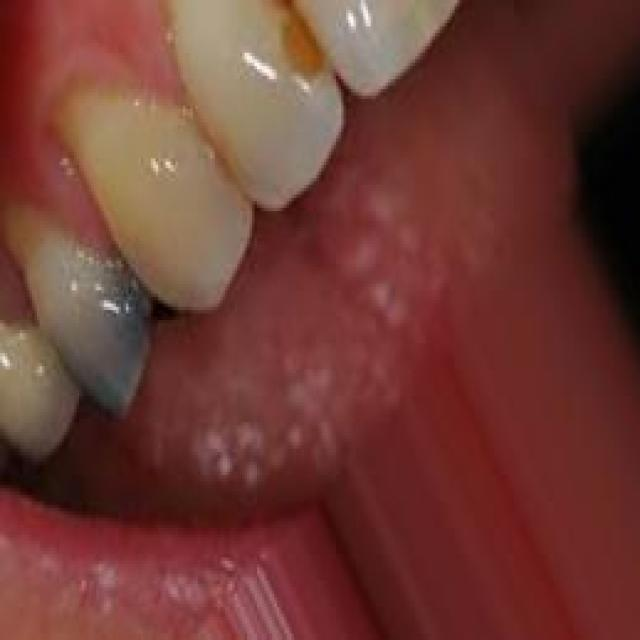caries: (246, 0, 345, 119)
